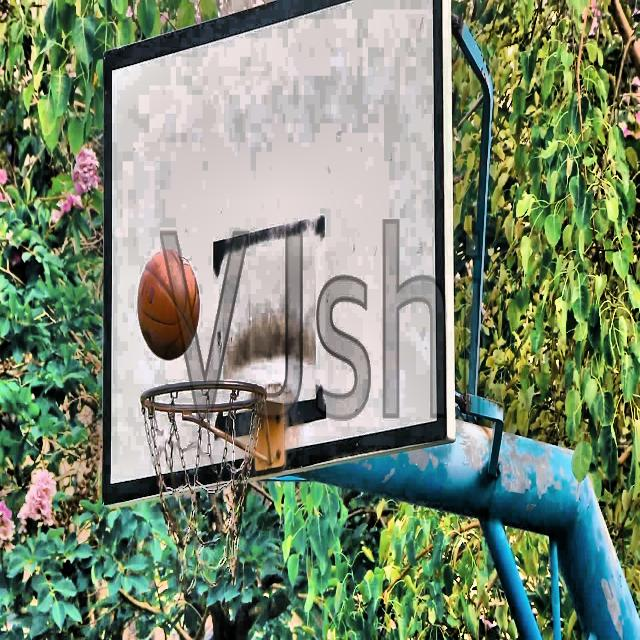board: (138, 248, 200, 361)
rim: (136, 380, 266, 585)
